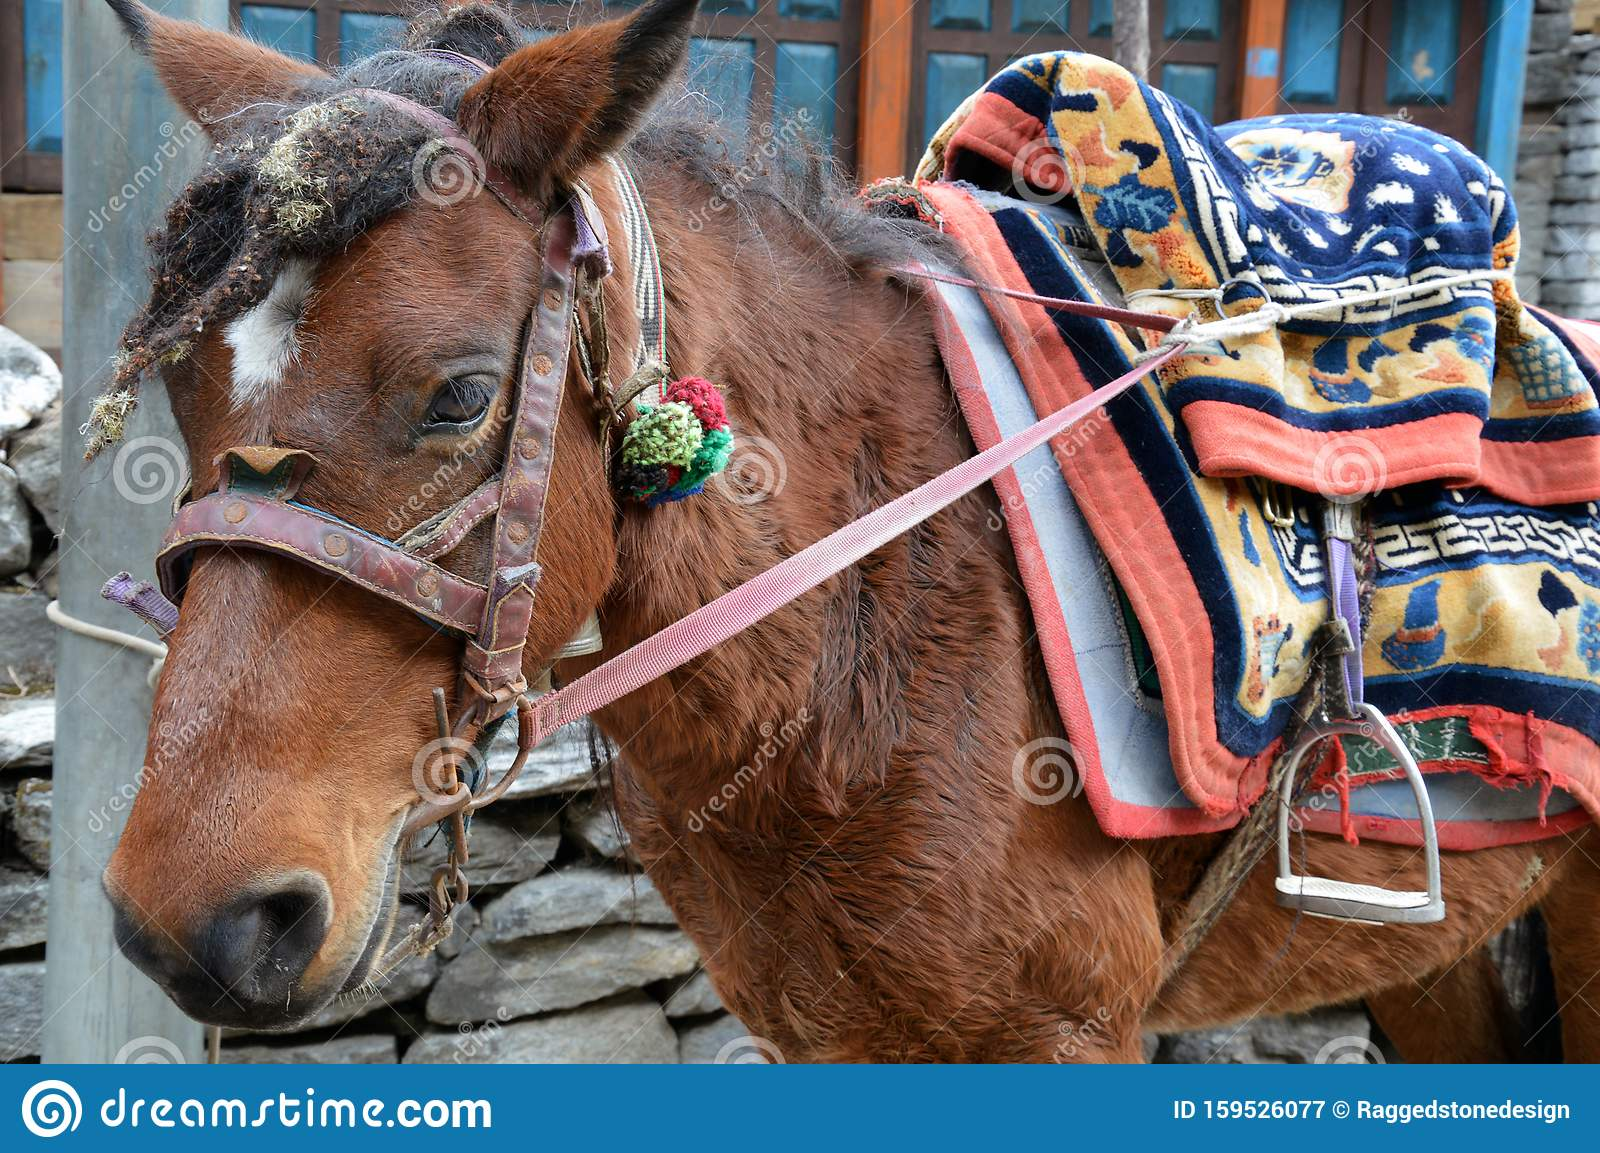equine: (51, 1, 1600, 1054)
